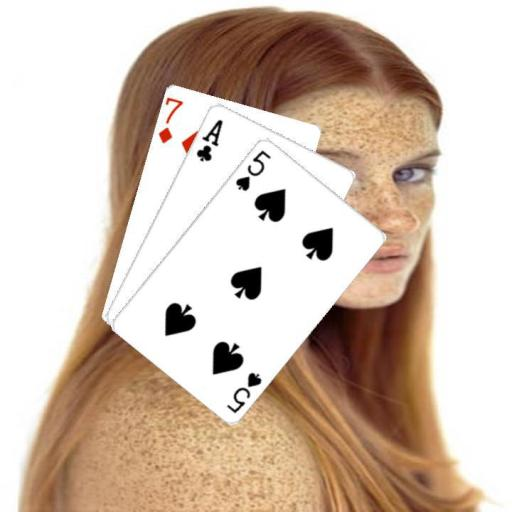5S: (223, 369, 264, 415), (232, 147, 272, 193)
7D: (155, 94, 185, 145)
AC: (193, 116, 225, 163)
